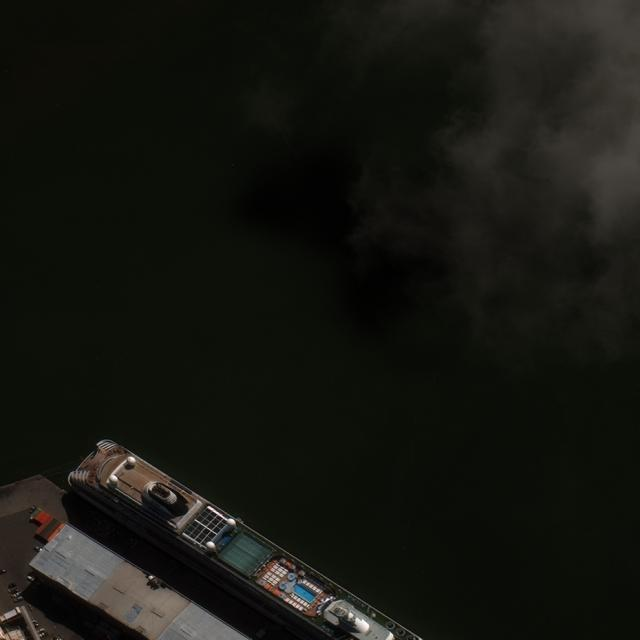Other Ship: (67, 435, 429, 640)
